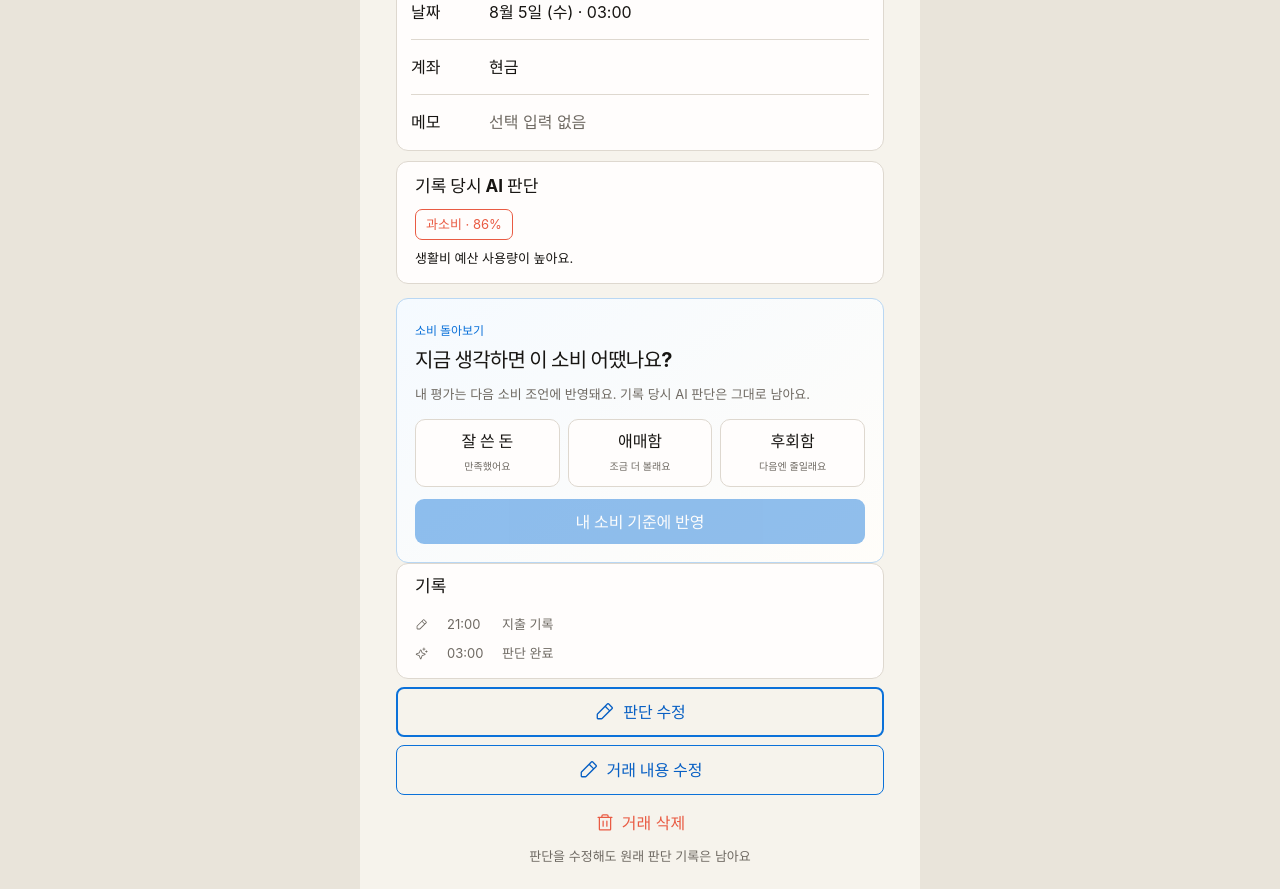
Scenario: judgment voice › opens transaction editing on the Korean ledger date and saves the edited transaction
(page scrolled)
Expected: the heading "지금 생각하면 이 소비 어땠나요?" is shown, left=415, top=345, right=672, bottom=375
Click the button "거래 내용 수정" at (640, 770), box left=396, top=745, right=884, bottom=795
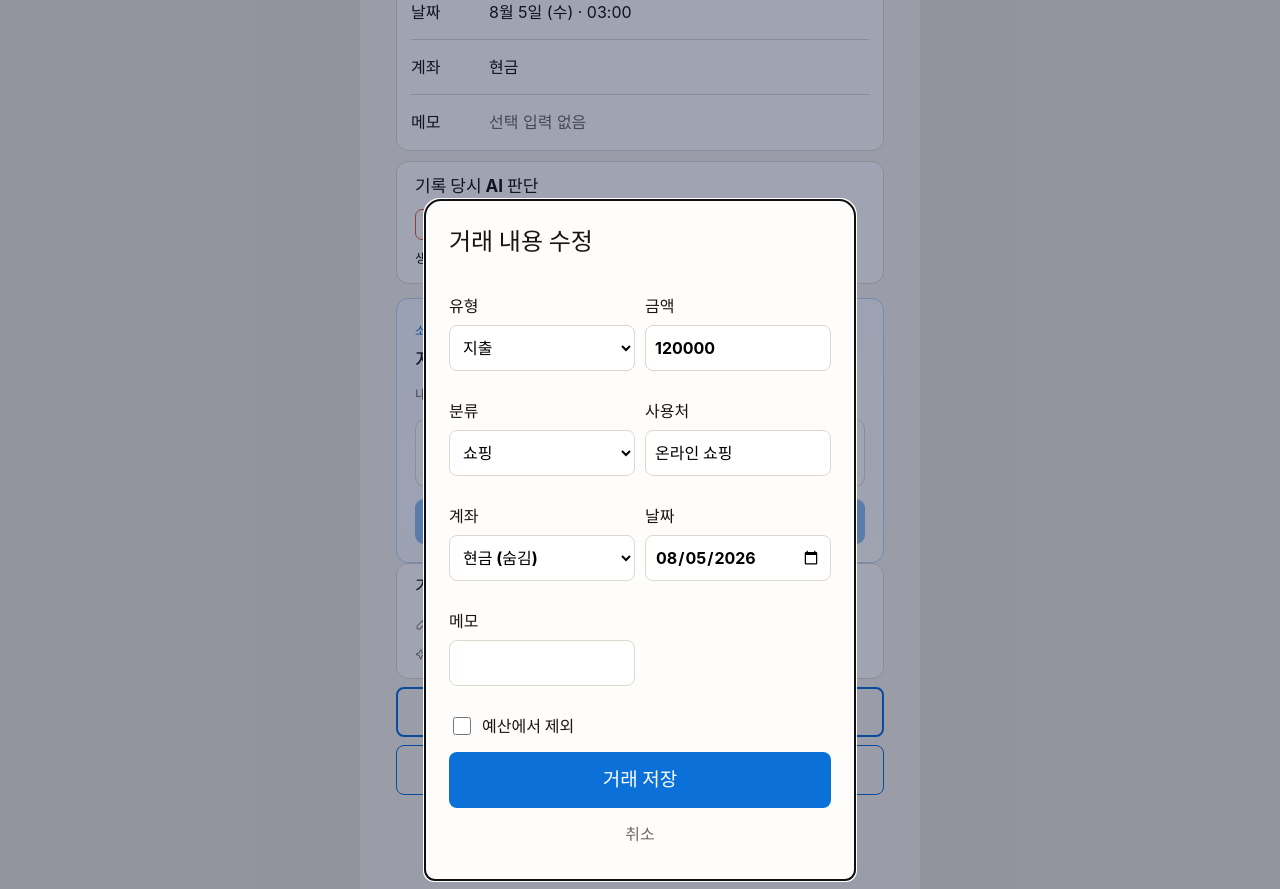
Expected: the date field labelled "날짜" holds "2026-08-05", left=645, top=534, right=831, bottom=580
Expected: the dropdown labelled "계좌" shows "현금 (숨김)", left=449, top=534, right=635, bottom=580
Replace the text in the number field labelled "금액" with "98000" at (738, 348), box left=645, top=324, right=831, bottom=370
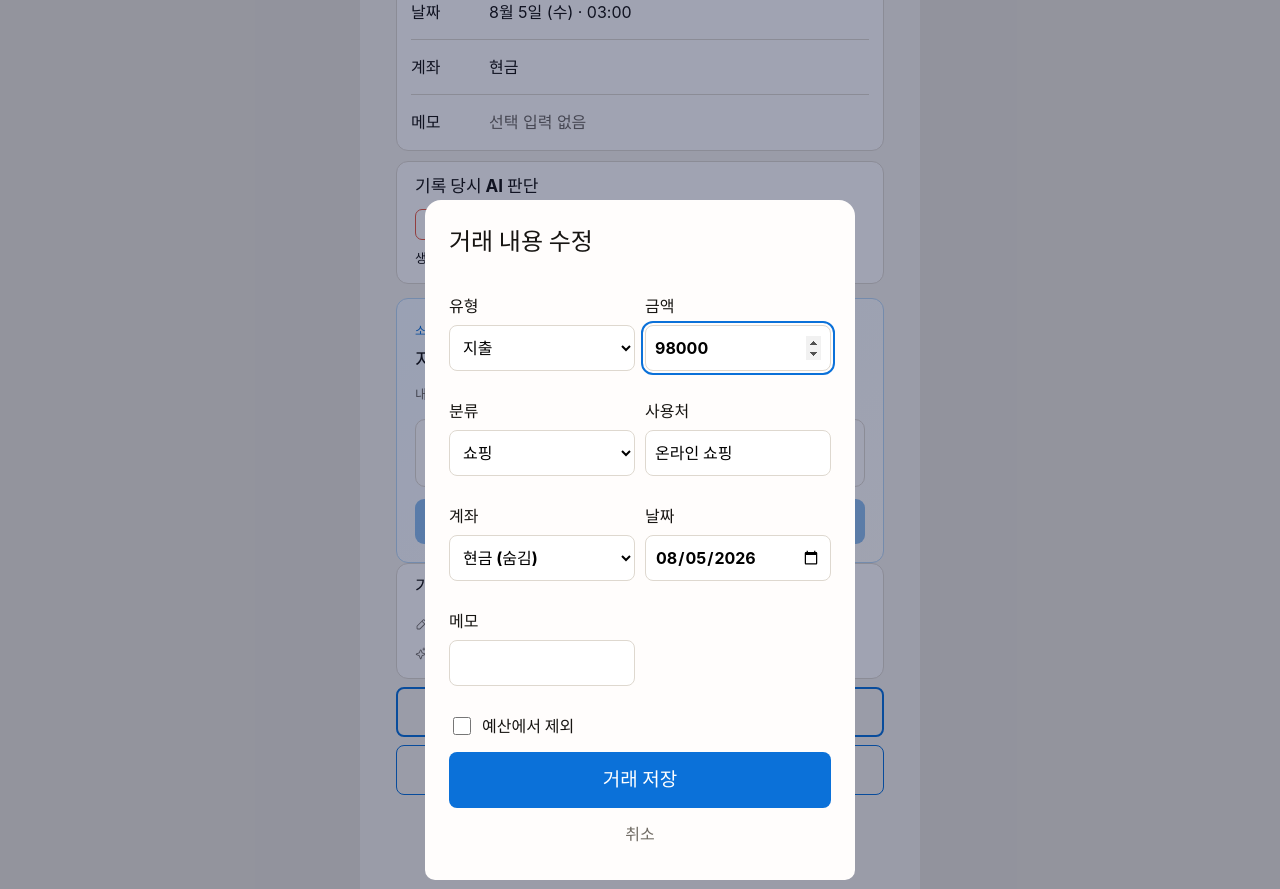
Select "식비" in the dropdown labelled "분류" at (542, 452), box left=449, top=430, right=635, bottom=476
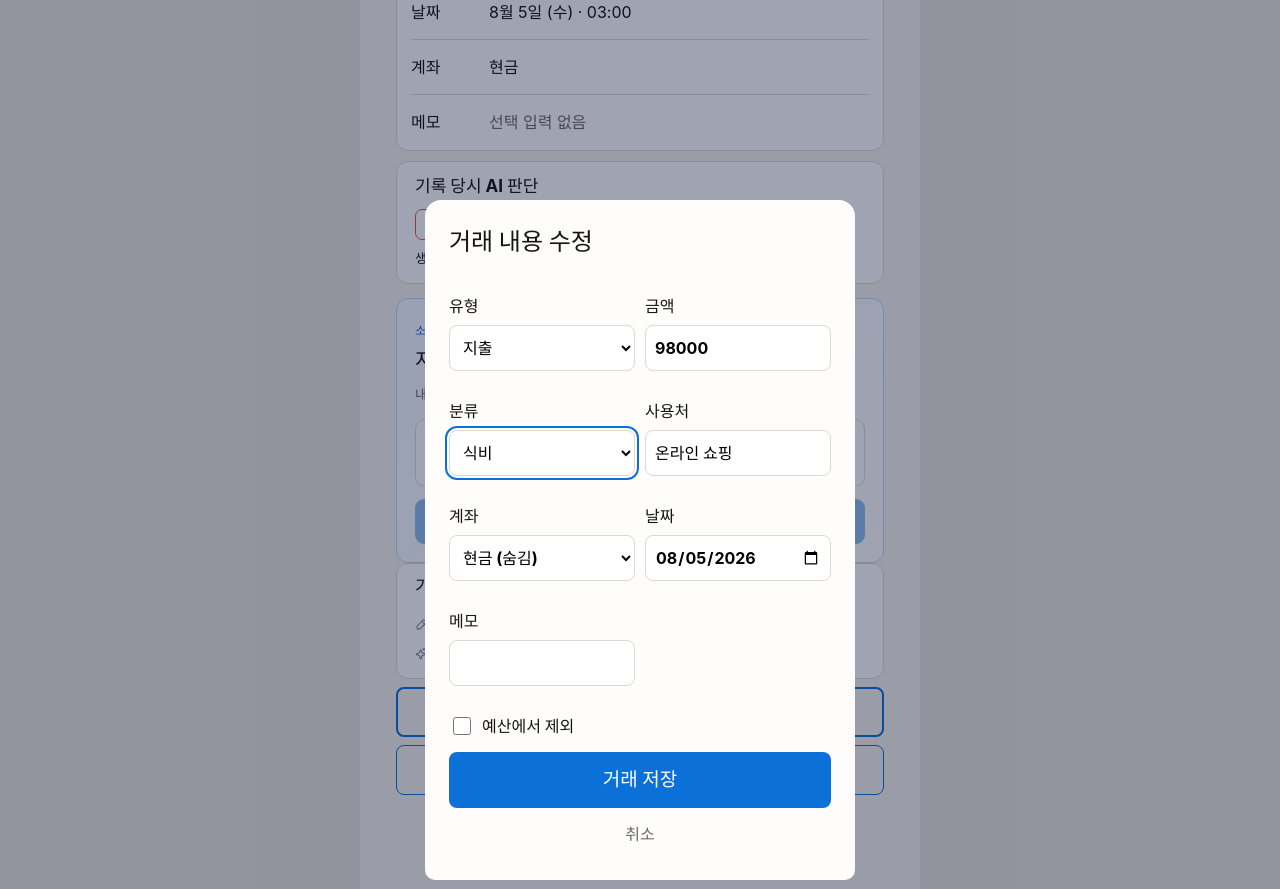
Replace the text in the field labelled "사용처" with "김밥집" at (738, 452), box left=645, top=430, right=831, bottom=476
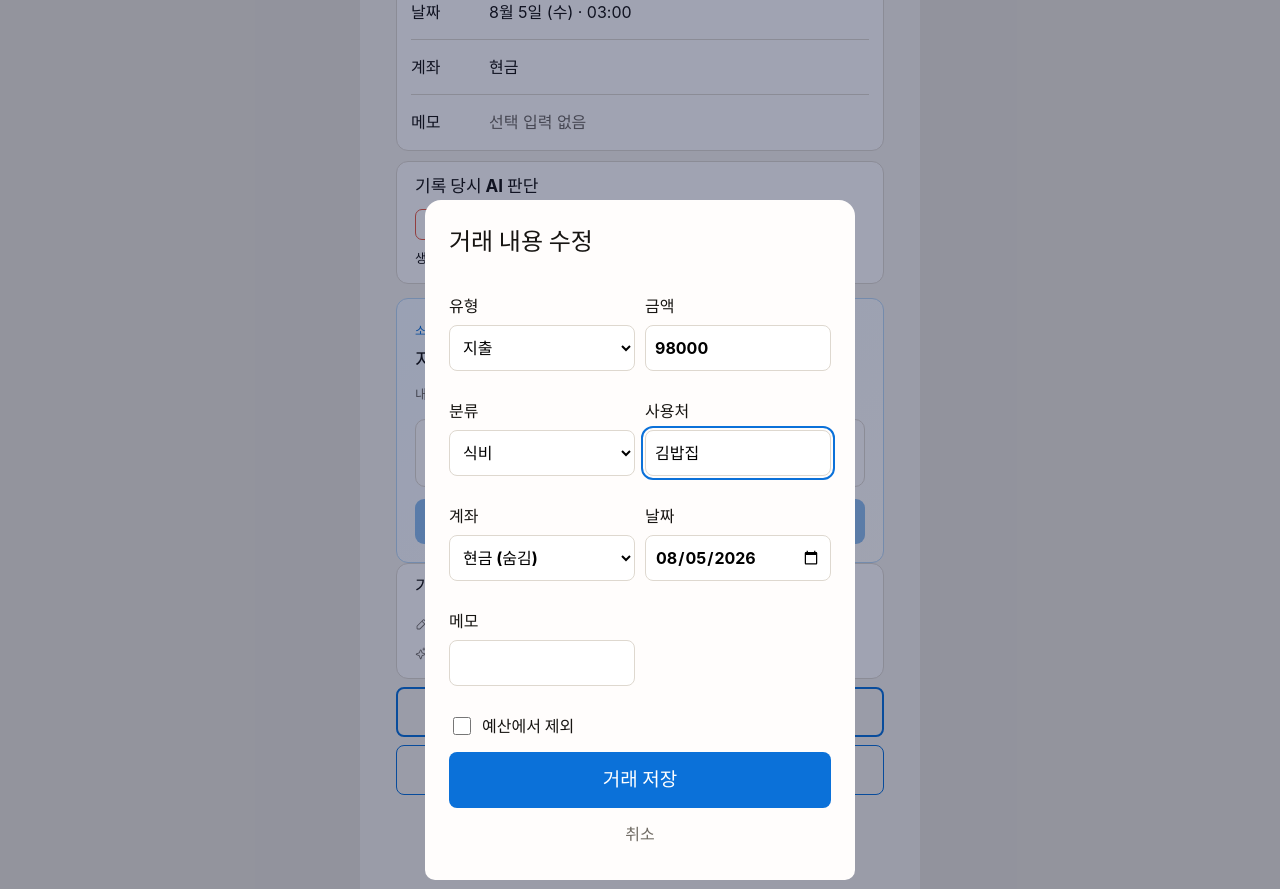
Click the button "거래 저장" at (640, 780), box left=449, top=752, right=831, bottom=808
(page scrolled)
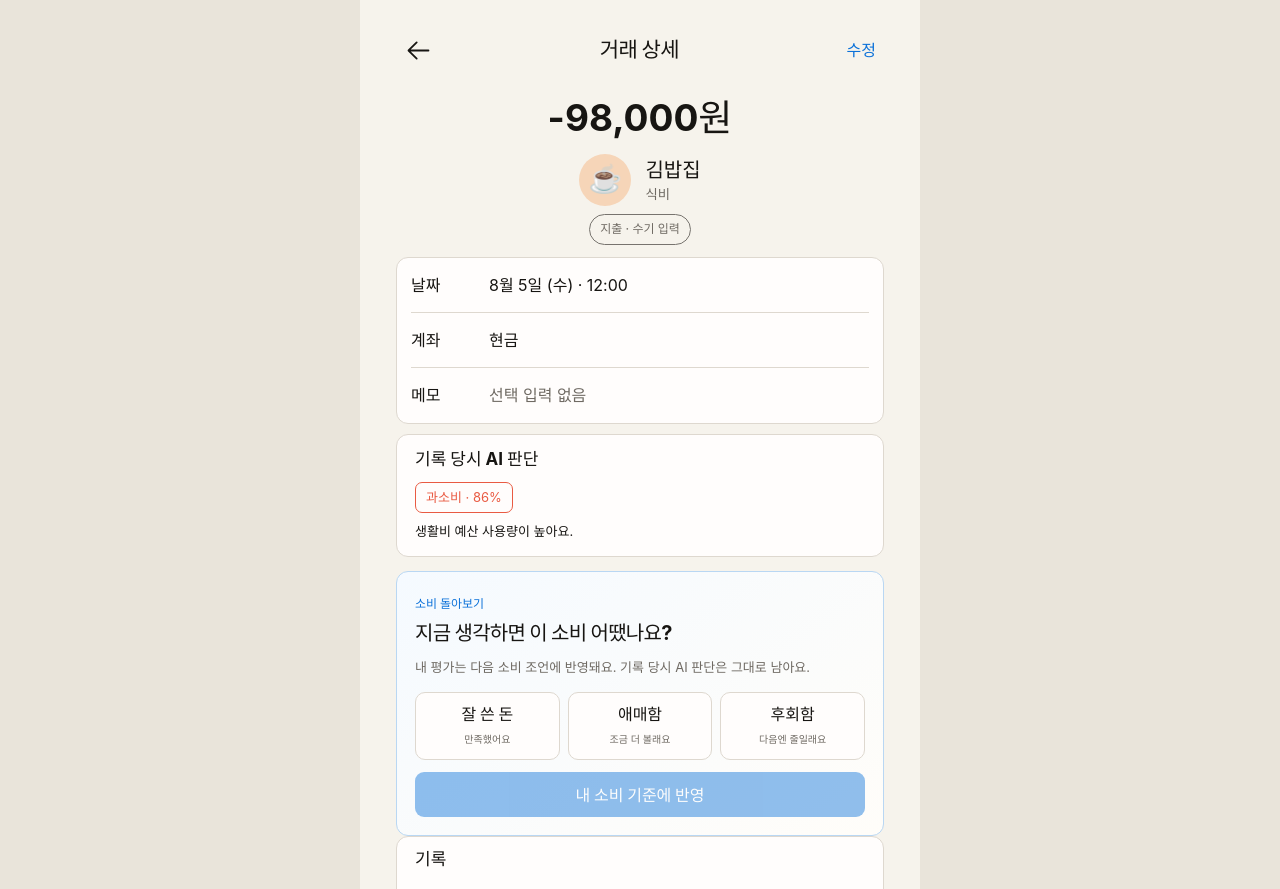
Expected: the button "거래 저장" is gone
Expected: the heading "-98,000원" is shown, left=548, top=90, right=732, bottom=146
Expected: the text "김밥집" is shown, left=645, top=154, right=701, bottom=184
